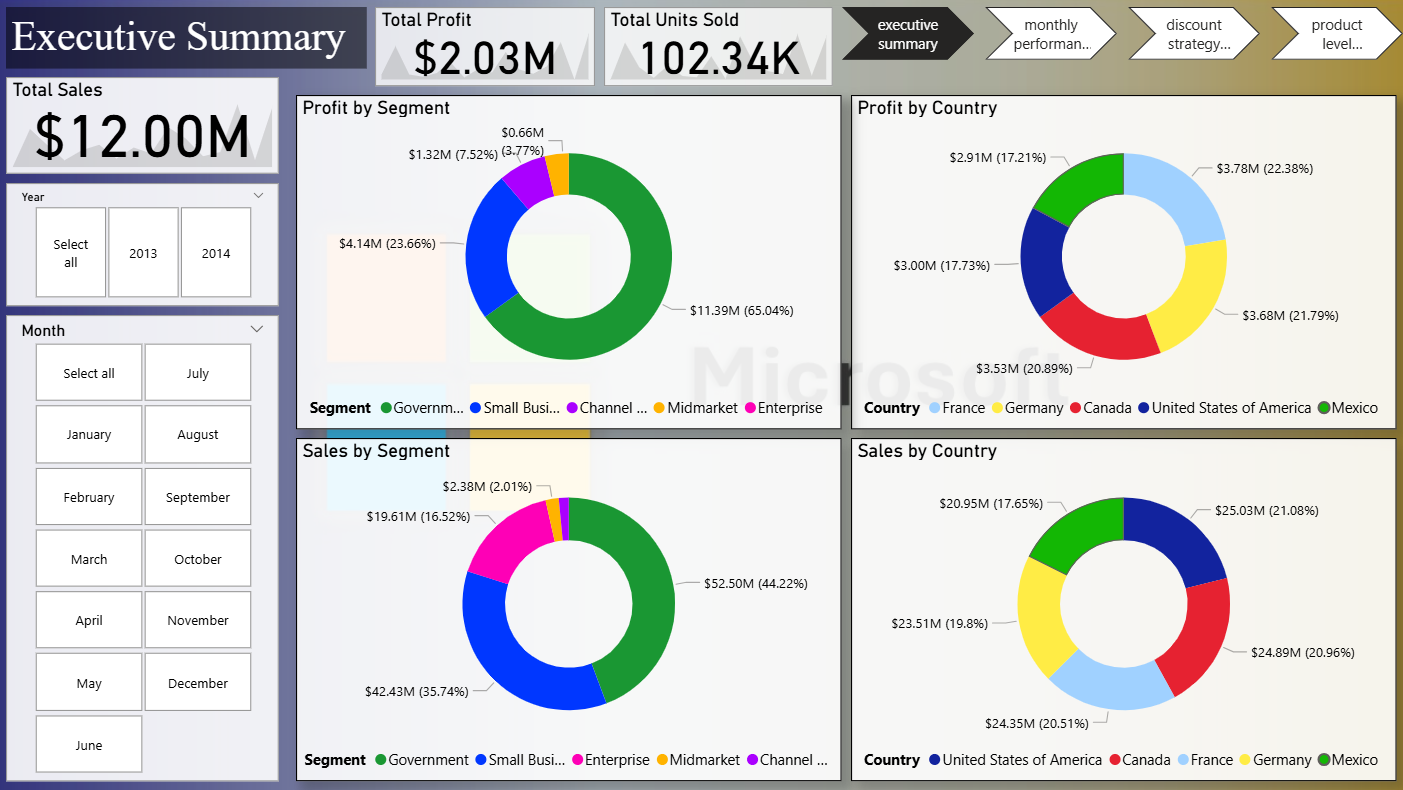

This screenshot's page, from the dashboard's own definition file:
{"tool":"powerbi","page":{"name":"executive summary","canvas":[1280,720],"ordinal":0},"visuals":[{"type":"kpi","title":"Total Profit ","fields":{"Indicator":["Sum(Financial Sample.Profit)"],"TrendLine":["Financial Sample.Date"]},"box":[344,8,200,72],"z":0},{"type":"donutChart","title":"Profit by Country","fields":{"Y":["Sum(Financial Sample.Profit)"],"Category":["Financial Sample.Country"]},"box":[776,88,496,304],"z":1000},{"type":"kpi","title":"Total Units Sold ","fields":{"Indicator":["Sum(Financial Sample.Units Sold)"],"TrendLine":["Financial Sample.Date"]},"box":[552,8,208,72],"z":2000},{"type":"kpi","title":"Total Sales","fields":{"Indicator":["Sum(Financial Sample. Sales)"],"TrendLine":["Financial Sample.Date"]},"box":[8,72,248,88],"z":3000},{"type":"textbox","box":[8,8,328,56],"z":4000},{"type":"donutChart","title":"Profit by Segment","fields":{"Y":["Sum(Financial Sample.Profit)"],"Category":["Financial Sample.Segment"]},"box":[272,88,496,304],"z":5000},{"type":"pageNavigator","box":[768,8,512,48],"z":6000},{"type":"donutChart","title":"Sales by Segment","fields":{"Category":["Financial Sample.Segment"],"Y":["Sum(Financial Sample. Sales)"]},"box":[272,400,496,312],"z":7000},{"type":"donutChart","title":"Sales by Country","fields":{"Y":["Sum(Financial Sample. Sales)"],"Category":["Financial Sample.Country"]},"box":[776,400,496,312],"z":8000},{"type":"slicer","fields":{"Values":["Financial Sample.Year"]},"box":[8,168,248,112],"z":9000},{"type":"slicer","fields":{"Values":["Financial Sample.Date.Variation.Date Hierarchy.Month"]},"box":[8,288,248,424],"z":10000}]}

Visuals, with their boxes in screenshot pixels (x1, y1, x2, y2), scaled from the page's 1280x720 canvas onto the 1403x790 screenshot:
"Total Profit " kpi: [377,9,596,88]
"Profit by Country" donutChart: [851,97,1394,430]
"Total Units Sold " kpi: [605,9,833,88]
"Total Sales" kpi: [9,79,281,176]
textbox: [9,9,368,70]
"Profit by Segment" donutChart: [298,97,842,430]
pageNavigator: [842,9,1402,61]
"Sales by Segment" donutChart: [298,439,842,781]
"Sales by Country" donutChart: [851,439,1394,781]
slicer - Financial Sample.Year: [9,184,281,307]
slicer - Financial Sample.Date.Variation.Date Hierarchy.Month: [9,316,281,781]
